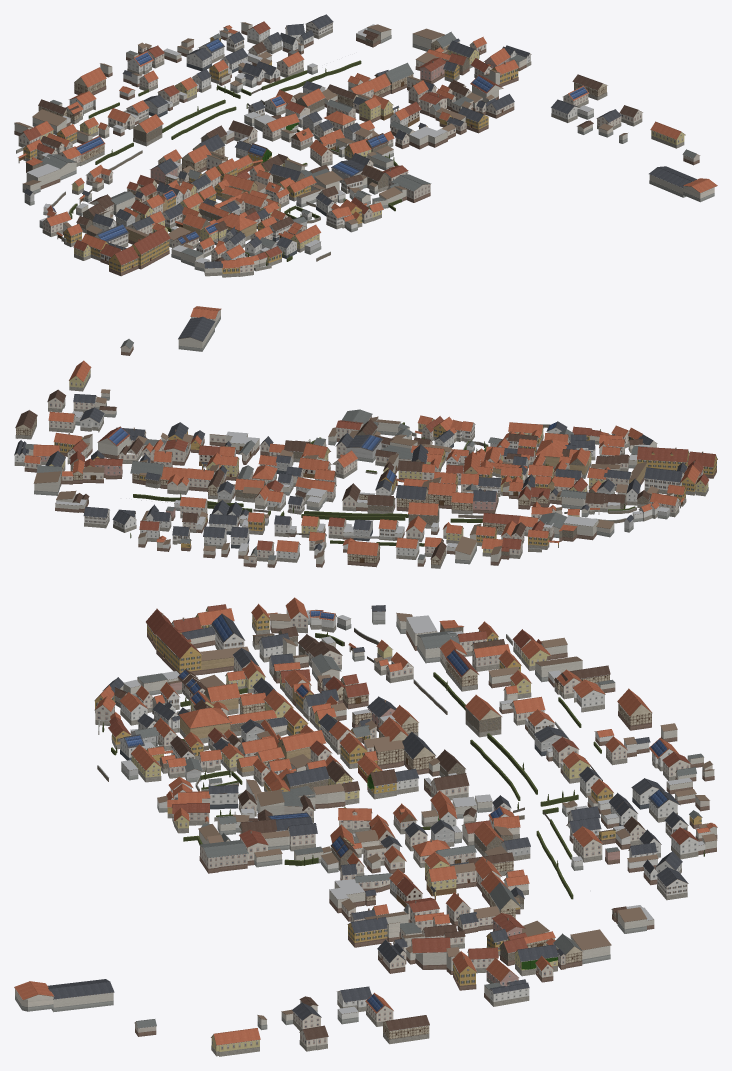
The model's file is village_center.glb.
3 views of the same model, one above another, from view 1: azimuth 30°, elevation 25°; view 2: azimuth 150°, elevation 25°; view 3: azimuth 270°, elevation 25° (orthographic). The views are drawn at different scales.
Visible parts, largest first — view 1: village_center; view 2: village_center; view 3: village_center.
Boxes of the visible parts, x1=… form: village_center: x1=14, y1=14, x2=717, y2=277; village_center: x1=14, y1=306, x2=717, y2=568; village_center: x1=14, y1=597, x2=717, y2=1056.
Size of the model in its own units: 447 by 43.76 by 339.
Materials: 44 (41 with a texture image).
